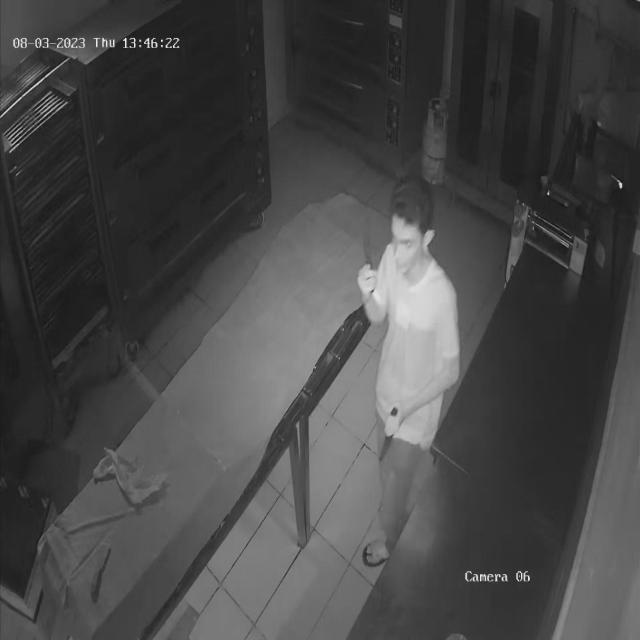Knife: (368, 401, 402, 471)
